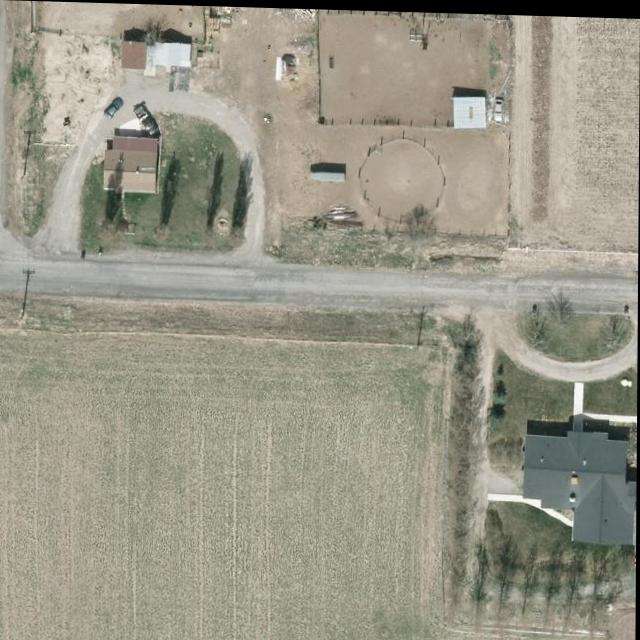vehicle: (134, 103, 160, 138), (102, 96, 126, 121)
